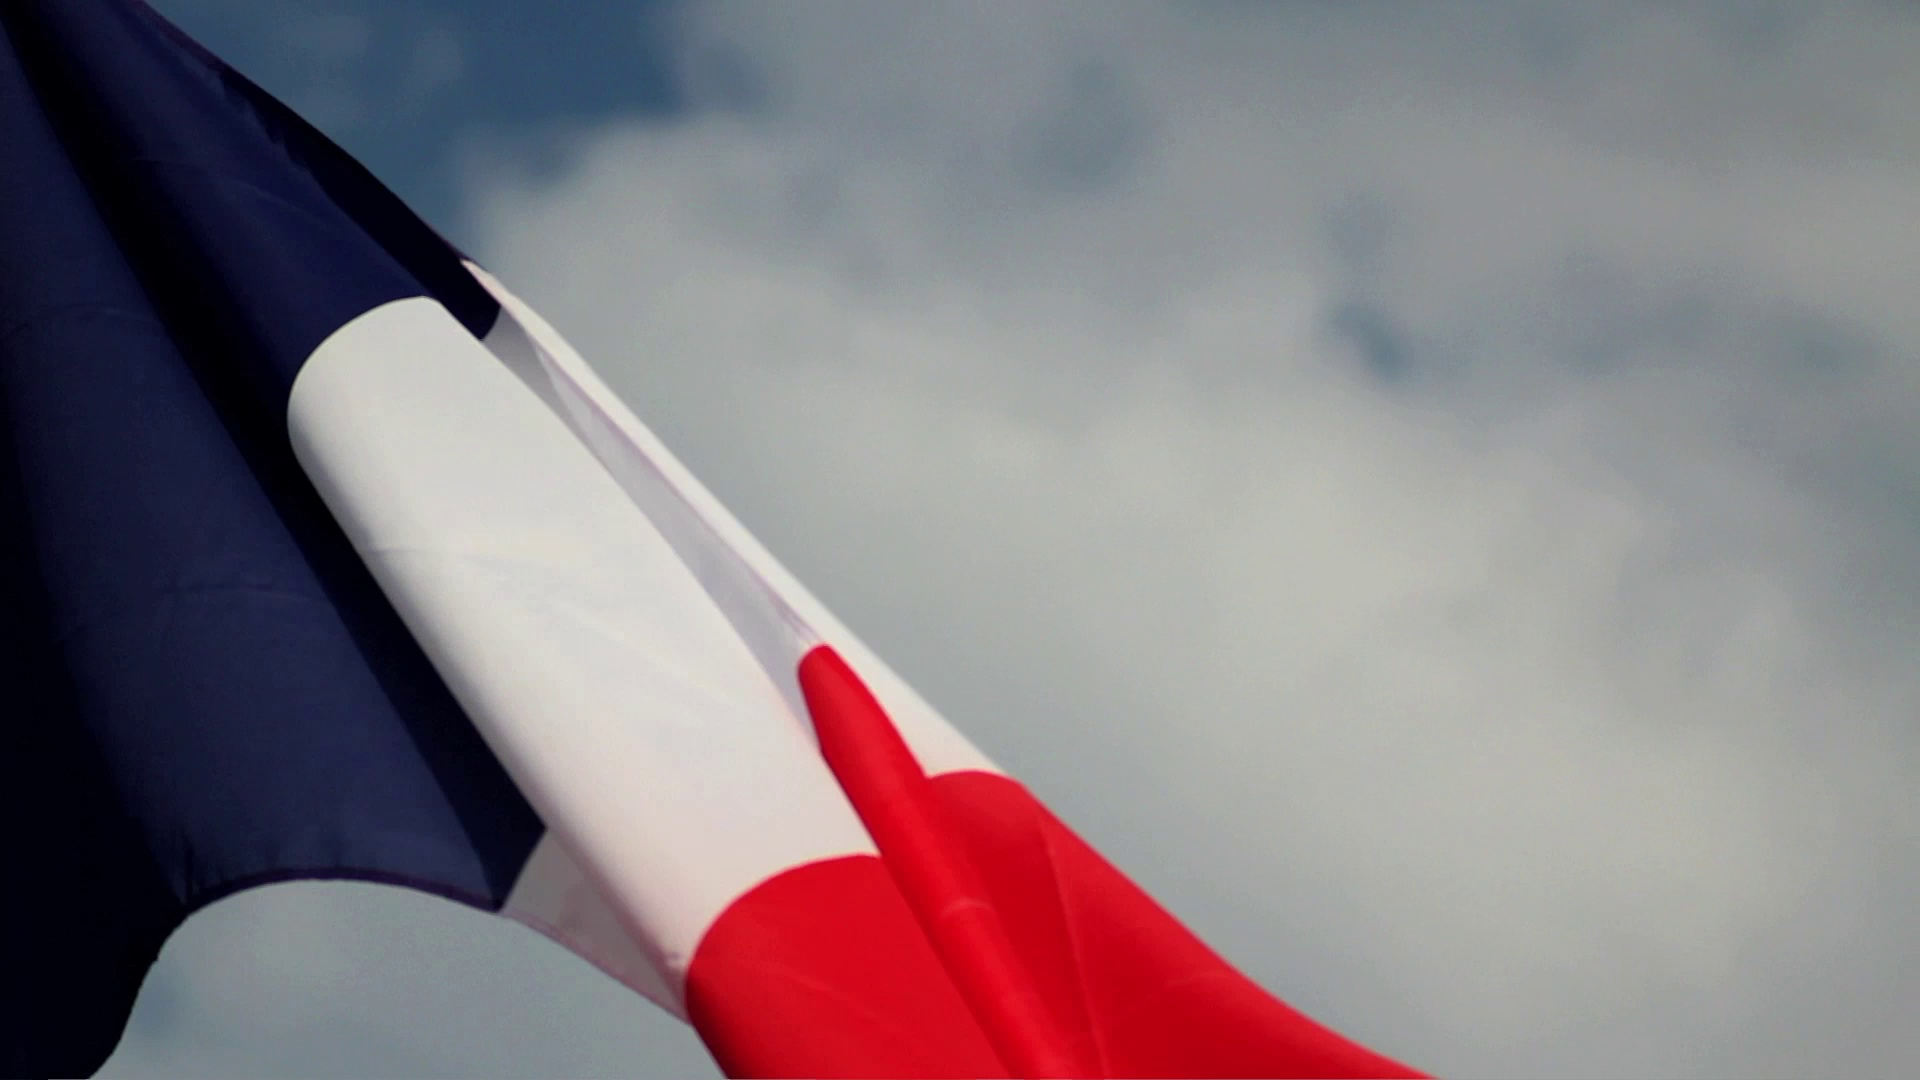French Flag: (4, 1, 1419, 1077)
